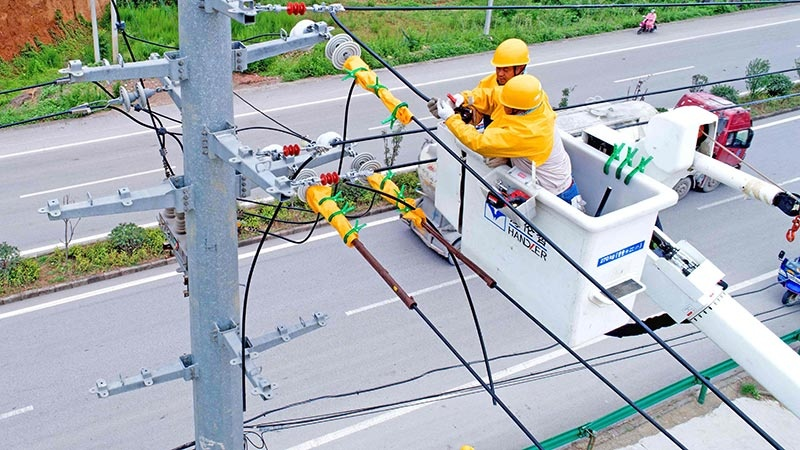yellow: (487, 34, 532, 85), (497, 74, 544, 116)
